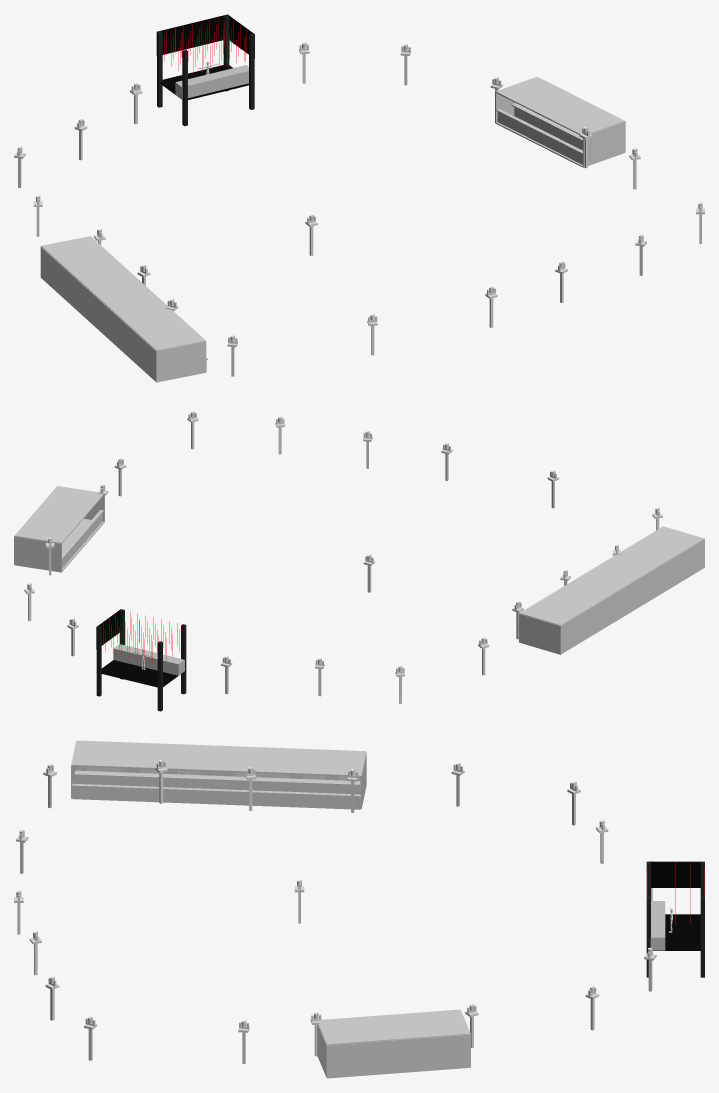
The model's file is caroussel.fbx.
3 renders of one model, top to bottom at view 1: azimuth 30°, elevation 25°; view 2: azimuth 150°, elevation 25°; view 3: azimuth 270°, elevation 25°, orthographic. The views are drawn at different scales.
Parts seen in each view (by area): view 1: DeckE, RückwanD, DeckE_2, Stage, Seite_1_1, DJbooth, Seite_1_2, TheKe_3_2, TheKe_2_3; view 2: DeckE, RückwanD, DeckE_2, Stage, Seite_1_1_2, Seite_1, DJbooth, BodeN_2; view 3: DeckE, RückwanD_2, DeckE_2, TheKe_3, Stage, TheKe_2, TheKe_1, TheKe, CooleR, DJbooth.
Boxes of the visible parts, x1,y1,x2,y2 form: DeckE: (41, 236, 205, 350); RückwanD: (40, 246, 156, 381); DeckE_2: (495, 76, 624, 134); Stage: (156, 14, 254, 100); Seite_1_1: (156, 341, 206, 381); DJbooth: (175, 65, 248, 99); Seite_1_2: (583, 121, 625, 167); TheKe_3_2: (497, 112, 582, 164); TheKe_2_3: (514, 107, 582, 150); DeckE: (519, 526, 704, 625); RückwanD: (560, 539, 704, 654); DeckE_2: (14, 486, 103, 543); Stage: (96, 609, 186, 688); Seite_1_1_2: (14, 536, 61, 572); Seite_1: (519, 614, 560, 654); DJbooth: (113, 644, 184, 675); BodeN_2: (15, 518, 104, 572); DeckE: (71, 740, 365, 776); RückwanD_2: (327, 1034, 470, 1077); DeckE_2: (318, 1009, 469, 1044); TheKe_3: (71, 787, 360, 809); Stage: (647, 861, 704, 950); TheKe_2: (75, 775, 360, 794); TheKe_1: (74, 770, 360, 785); TheKe: (71, 783, 360, 797); CooleR: (86, 766, 360, 780); DJbooth: (650, 901, 665, 950).
Size of what is drawn, in the model's own units: 4968 by 609 by 4760.
